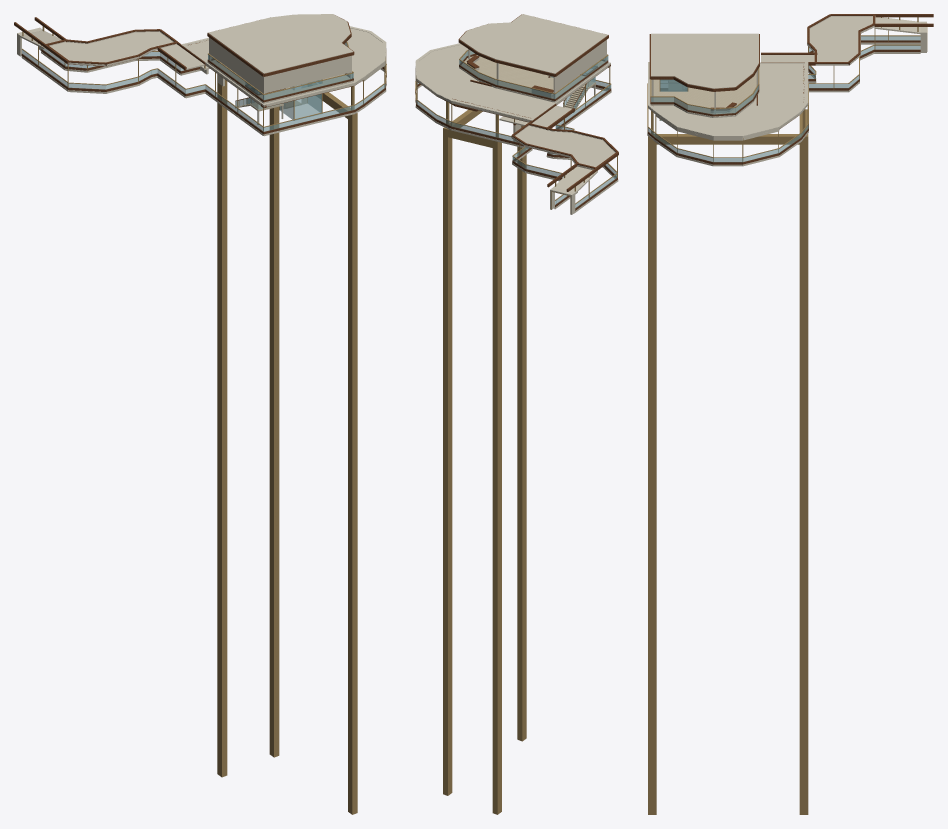
File: ROYALTY790_upper_candidate_r002.glb
The picture shows the model from 3 angles, left to right: view 1: azimuth 30°, elevation 25°; view 2: azimuth 150°, elevation 25°; view 3: azimuth 270°, elevation 25°; orthographic projection. The views are drawn at different scales.
Visible parts, largest first — view 1: D17_RoyaltyPier_WestFore, D17_RoyaltyPier_Fore, D17_RoyaltyPier_Aft, RG_UpperRoof, CR_CourtCanopy, CR_RoyaltyLowerRoof, RG_AftPrivacyReturn, RG_InwardPrivacyWall; view 2: D17_RoyaltyPier_WestFore, D17_RoyaltyPier_Fore, D17_RoyaltyPier_Aft, RG_UpperRoof, CR_RoyaltyLowerRoof, CR_CourtCanopy, RG_UpperGalleryFloor, RG_InwardPrivacyWall, CR_ApproachRisingSoffit, D17_RoyaltyTransverseTransfer, CR_LaneCanopy; view 3: D17_RoyaltyPier_Fore, D17_RoyaltyPier_Aft, RG_UpperRoof, CR_RoyaltyLowerRoof, CR_CourtCanopy, RG_UpperGalleryFloor, D17_RoyaltyTransfer.
Boxes of the visible parts, x1=… form: D17_RoyaltyPier_WestFore: x1=217, y1=75, x2=227, y2=767; D17_RoyaltyPier_Fore: x1=269, y1=106, x2=279, y2=754; D17_RoyaltyPier_Aft: x1=348, y1=119, x2=357, y2=811; RG_UpperRoof: x1=208, y1=14, x2=353, y2=73; CR_CourtCanopy: x1=49, y1=32, x2=173, y2=62; CR_RoyaltyLowerRoof: x1=186, y1=28, x2=386, y2=106; RG_AftPrivacyReturn: x1=265, y1=56, x2=350, y2=93; RG_InwardPrivacyWall: x1=209, y1=38, x2=263, y2=93; D17_RoyaltyPier_WestFore: x1=492, y1=146, x2=501, y2=805; D17_RoyaltyPier_Fore: x1=443, y1=136, x2=452, y2=792; D17_RoyaltyPier_Aft: x1=517, y1=125, x2=526, y2=738; RG_UpperRoof: x1=459, y1=14, x2=607, y2=73; CR_RoyaltyLowerRoof: x1=415, y1=44, x2=610, y2=121; CR_CourtCanopy: x1=515, y1=125, x2=614, y2=167; RG_UpperGalleryFloor: x1=461, y1=55, x2=604, y2=98; RG_InwardPrivacyWall: x1=555, y1=40, x2=606, y2=92; CR_ApproachRisingSoffit: x1=553, y1=166, x2=597, y2=193; D17_RoyaltyTransverseTransfer: x1=448, y1=129, x2=501, y2=149; CR_LaneCanopy: x1=532, y1=105, x2=571, y2=127; D17_RoyaltyPier_Fore: x1=799, y1=144, x2=808, y2=812; D17_RoyaltyPier_Aft: x1=648, y1=144, x2=656, y2=812; RG_UpperRoof: x1=651, y1=33, x2=758, y2=88; CR_RoyaltyLowerRoof: x1=648, y1=64, x2=808, y2=137; CR_CourtCanopy: x1=810, y1=16, x2=872, y2=61; RG_UpperGalleryFloor: x1=651, y1=72, x2=756, y2=113; D17_RoyaltyTransfer: x1=648, y1=134, x2=808, y2=144.
Bounding box in the file's own units: 39.86 × 113 × 39.23.
6 materials, 4 textured.
